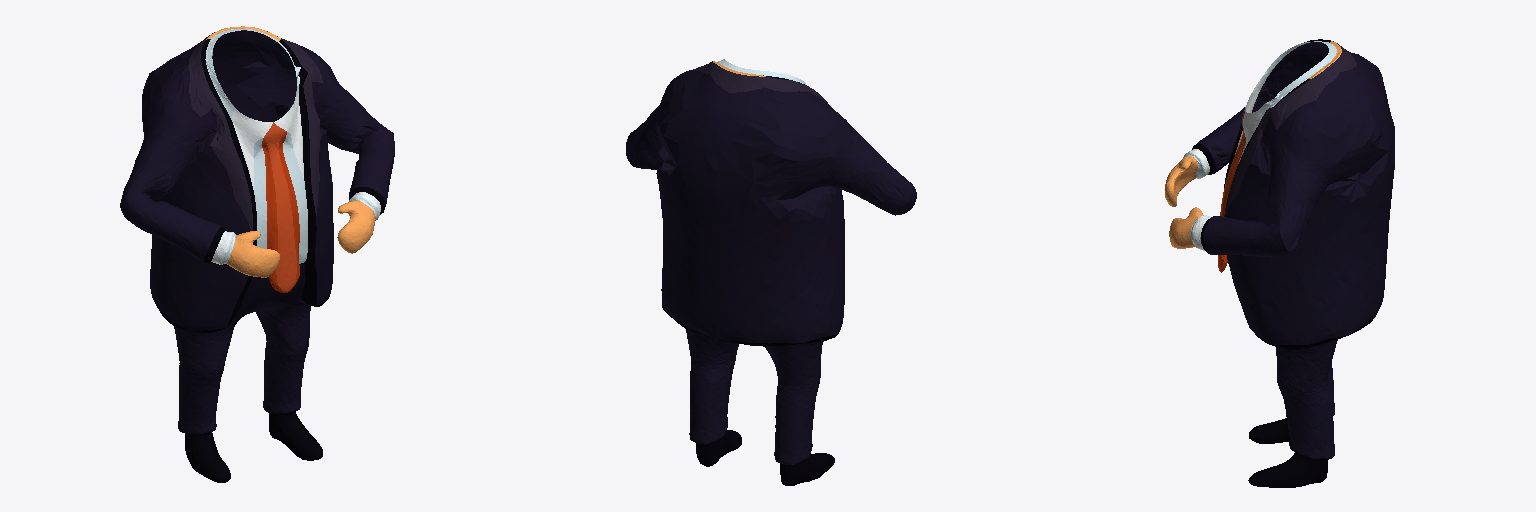
The picture shows the model from 3 angles: view 1: azimuth 30°, elevation 25°; view 2: azimuth 150°, elevation 25°; view 3: azimuth 270°, elevation 25°; orthographic projection.
Visible parts, largest first — view 1: körper; view 2: körper; view 3: körper.
Boxes of the visible parts, x1,y1,x2,y2 form: körper: [120, 26, 394, 482]; körper: [626, 59, 916, 485]; körper: [1165, 39, 1394, 487].
Bounding box in the file's own units: 103 × 145 × 73.84.
Materials: 1 (1 with a texture image).